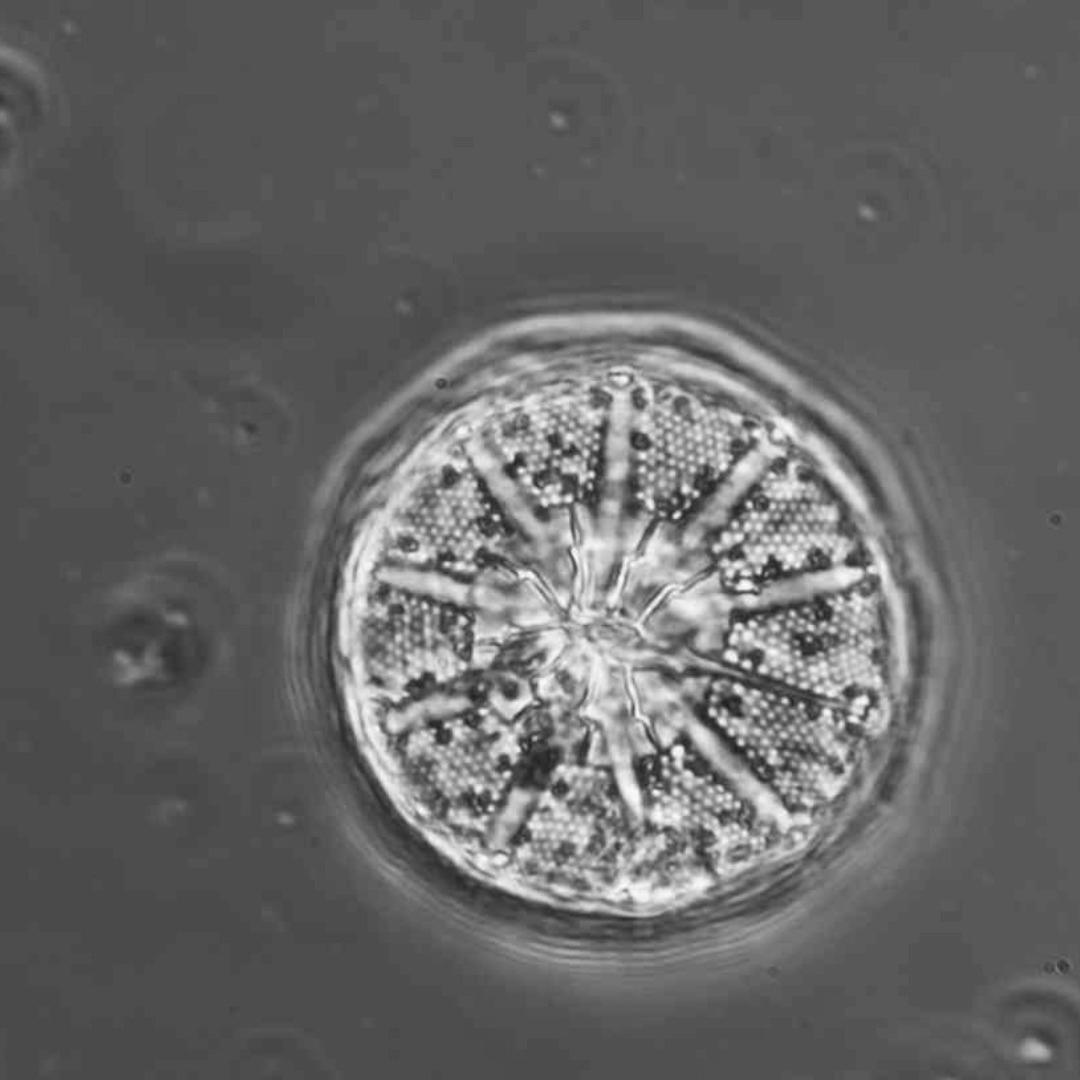asteromphalus_hyalinus: (355, 363, 897, 912)
